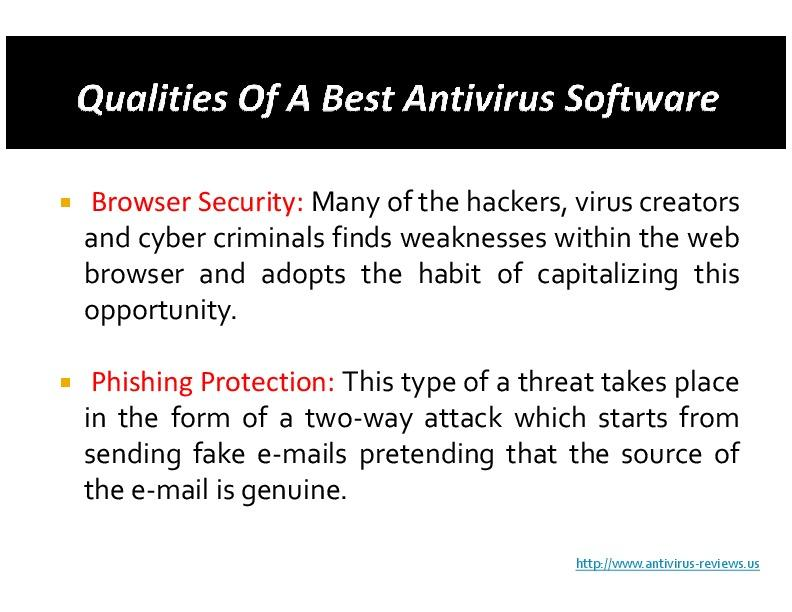paragraph: (48, 174, 768, 522)
subtitle: (555, 542, 782, 590)
title: (70, 59, 731, 132)
